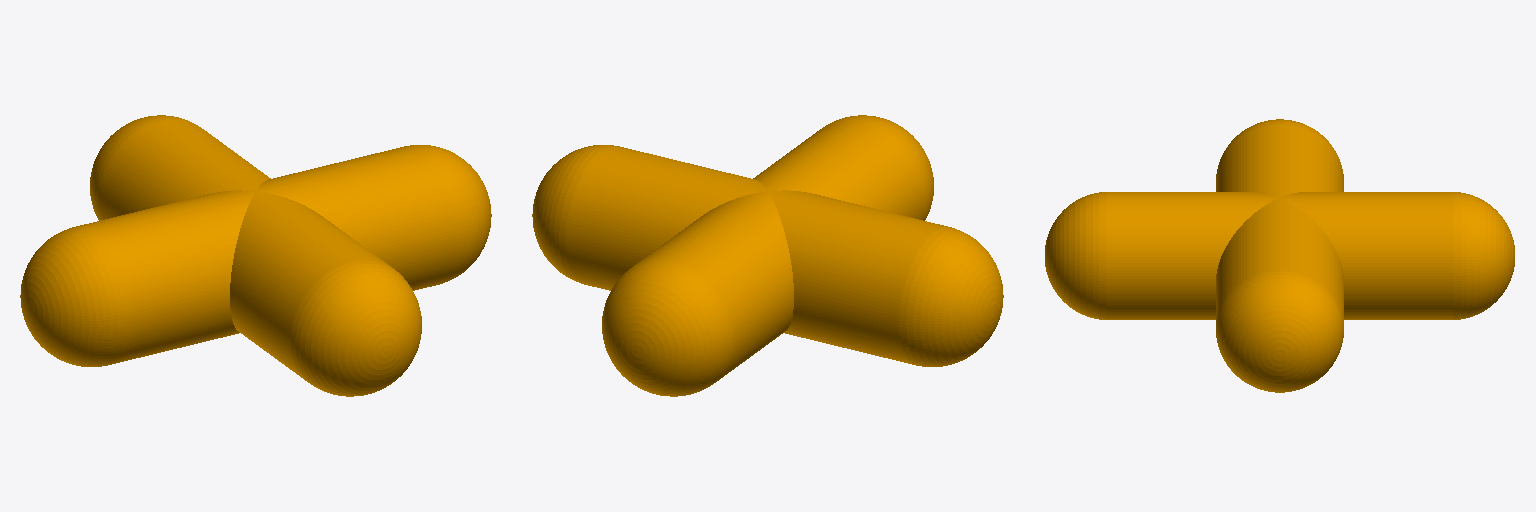
URDF robot description (object):
<?xml version="1.0"?>
<robot name="object">
  <link name="object">
    <visual>
      <origin xyz="0 0 0"/>
      <geometry>
        <mesh filename="meshes/non-convex-param/cross4_0.obj" scale=".08 .08 .08"/>
      </geometry>
    </visual>
    <collision>
  <origin xyz="0 0 0"/>
  <geometry>
    <mesh filename="meshes/non-convex-param/cross4_0_0decompose.obj" scale=".08 .08 .08"/>
<!--          <mesh filename="meshes/custom/obj0_ball.obj" scale=".05 .05 .05"/>-->
  </geometry>
</collision><collision>
  <origin xyz="0 0 0"/>
  <geometry>
    <mesh filename="meshes/non-convex-param/cross4_0_1decompose.obj" scale=".08 .08 .08"/>
<!--          <mesh filename="meshes/custom/obj0_ball.obj" scale=".05 .05 .05"/>-->
  </geometry>
</collision><collision>
  <origin xyz="0 0 0"/>
  <geometry>
    <mesh filename="meshes/non-convex-param/cross4_0_2decompose.obj" scale=".08 .08 .08"/>
<!--          <mesh filename="meshes/custom/obj0_ball.obj" scale=".05 .05 .05"/>-->
  </geometry>
</collision><collision>
  <origin xyz="0 0 0"/>
  <geometry>
    <mesh filename="meshes/non-convex-param/cross4_0_3decompose.obj" scale=".08 .08 .08"/>
<!--          <mesh filename="meshes/custom/obj0_ball.obj" scale=".05 .05 .05"/>-->
  </geometry>
</collision><collision>
  <origin xyz="0 0 0"/>
  <geometry>
    <mesh filename="meshes/non-convex-param/cross4_0_4decompose.obj" scale=".08 .08 .08"/>
<!--          <mesh filename="meshes/custom/obj0_ball.obj" scale=".05 .05 .05"/>-->
  </geometry>
</collision>

<!--    <collision>-->
<!--      <origin xyz="0 0 0"/>-->
<!--      <geometry>-->
<!--        <mesh filename="meshes/non-convex-param/cross4_0.obj" scale=".03 .03 .03"/>-->
<!--&lt;!&ndash;          <mesh filename="meshes/custom/obj0_ball.obj" scale=".05 .05 .05"/>&ndash;&gt;-->
<!--      </geometry>-->
<!--    </collision>-->
    <inertial>
      <density value="1000.0"/>
    </inertial>
  </link>
</robot>

--- Facts derived from the render (not from the file) ---
The picture shows the robot from 3 angles, left to right: view 1: azimuth 30°, elevation 25°; view 2: azimuth 150°, elevation 25°; view 3: azimuth 270°, elevation 25°; orthographic projection.
Model object with 1 links and 0 joints (none), rooted at object, posed all joints at 0.
Visible links, largest first — view 1: object; view 2: object; view 3: object.
Boxes of the visible links, x1,y1,x2,y2 form: object: (20,115,491,396); object: (532,115,1003,396); object: (1045,119,1514,392).
Bounding box of the posed robot: 0.1101 × 0.1101 × 0.0301 m (x, y, z).
Meshes: 1 distinct files referenced, 1 mesh visuals loaded (1 OBJ).